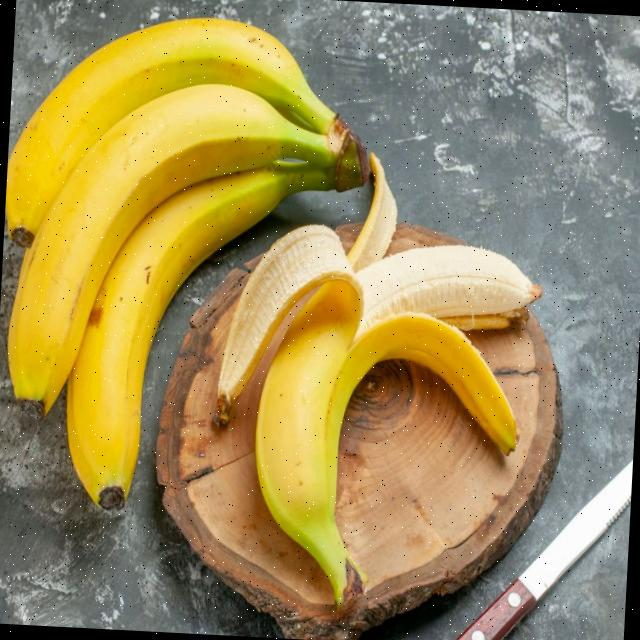banana: (0, 0, 325, 538), (223, 118, 556, 608)
